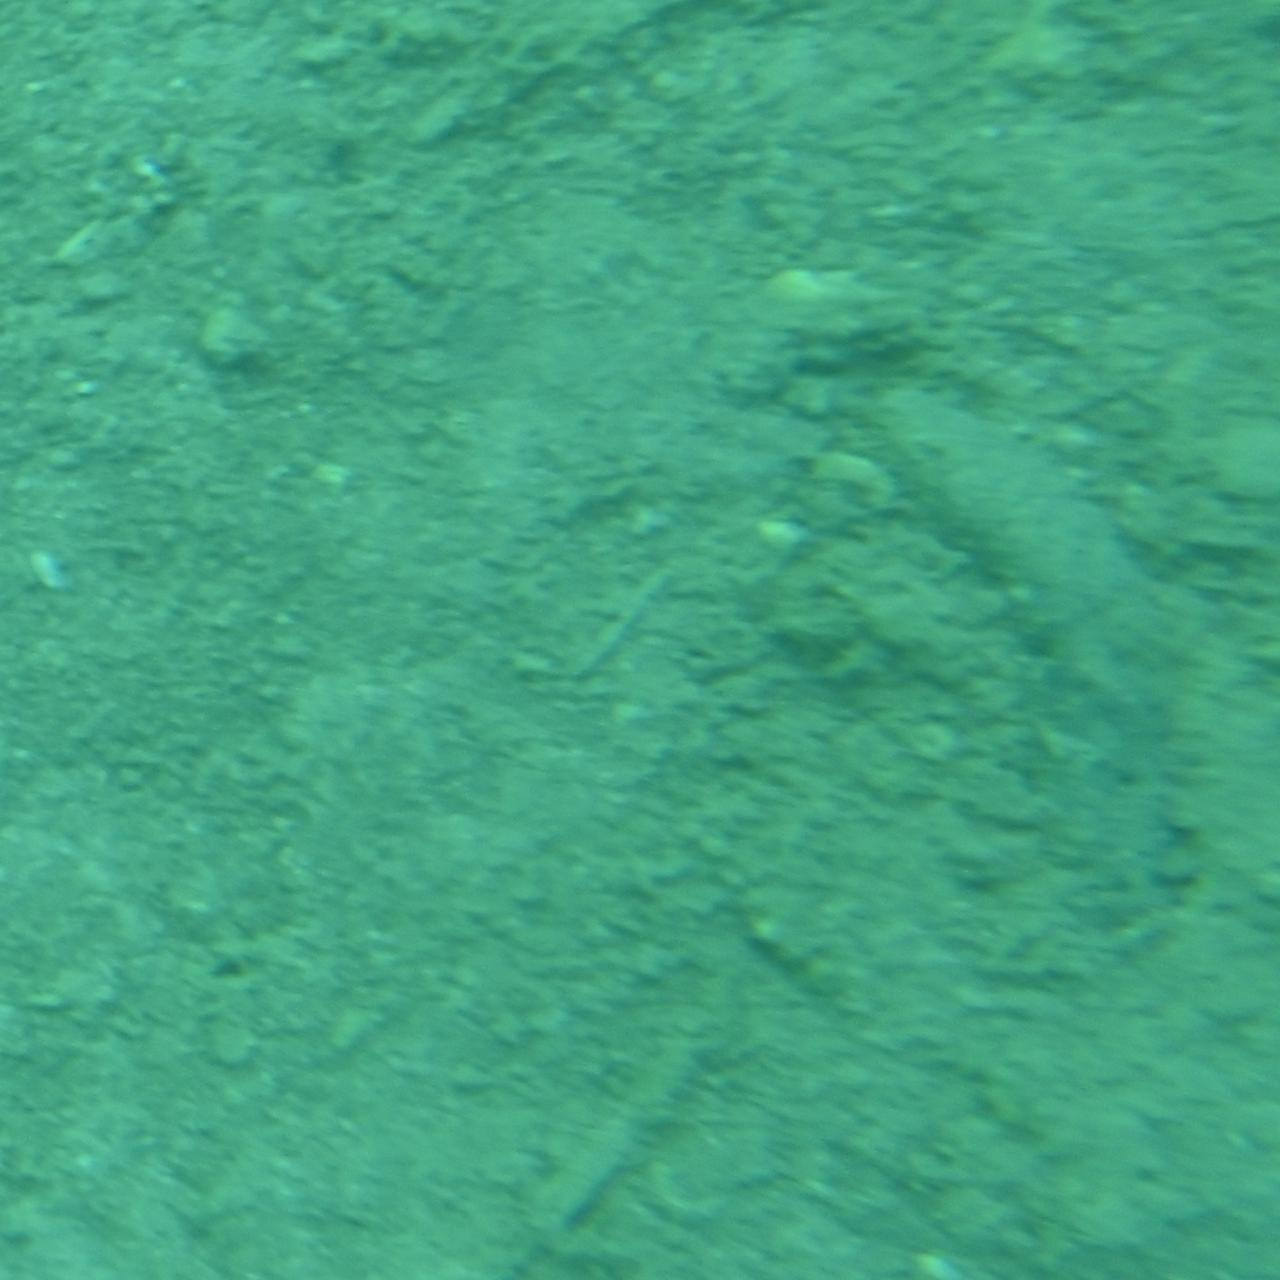Holothuria tubulosa: (848, 372, 1230, 908)
